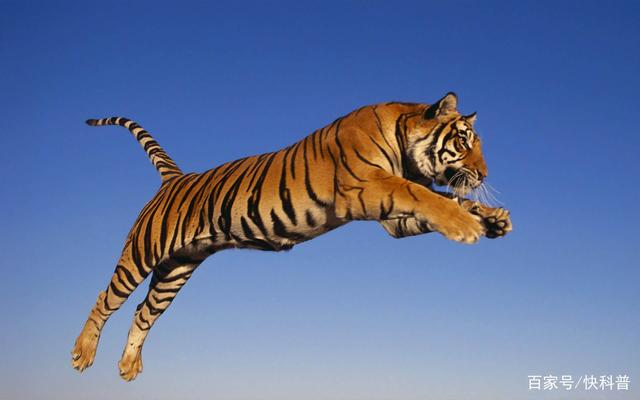tiger: (49, 66, 532, 391)
